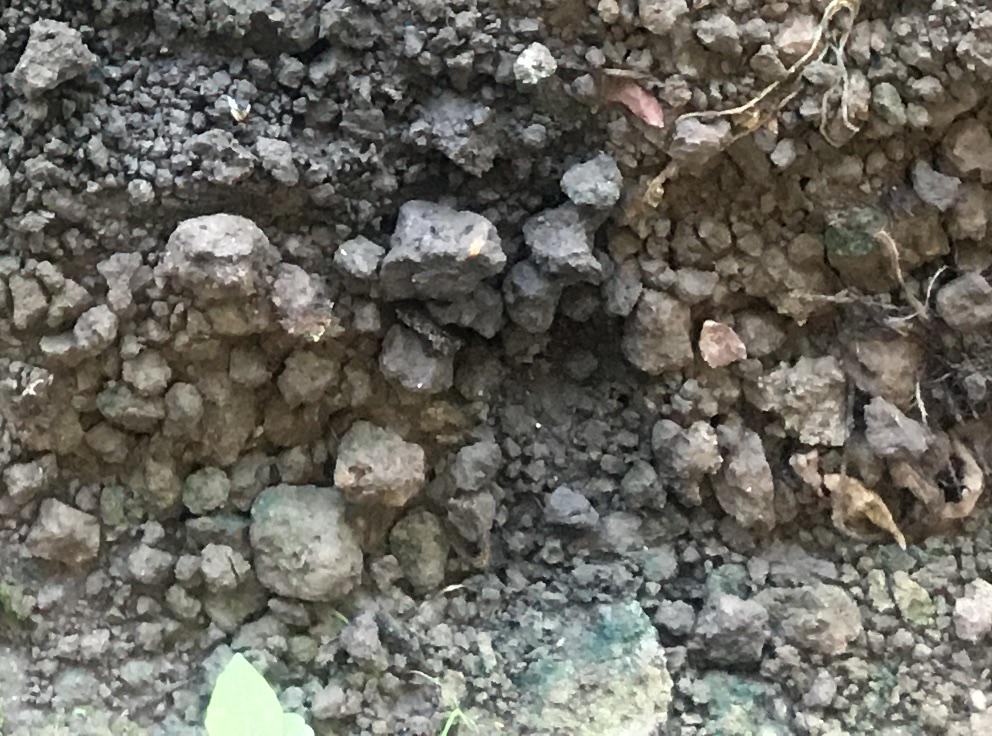block: (244, 485, 362, 608), (384, 198, 509, 300), (160, 213, 275, 303), (327, 423, 419, 513)
